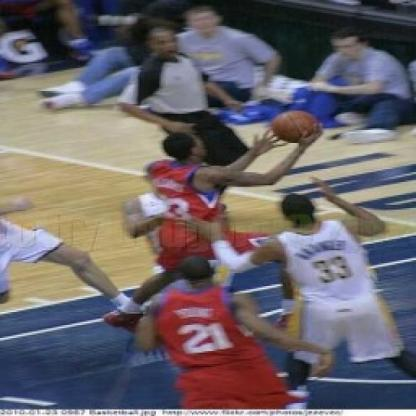basketball: (271, 106, 317, 142)
